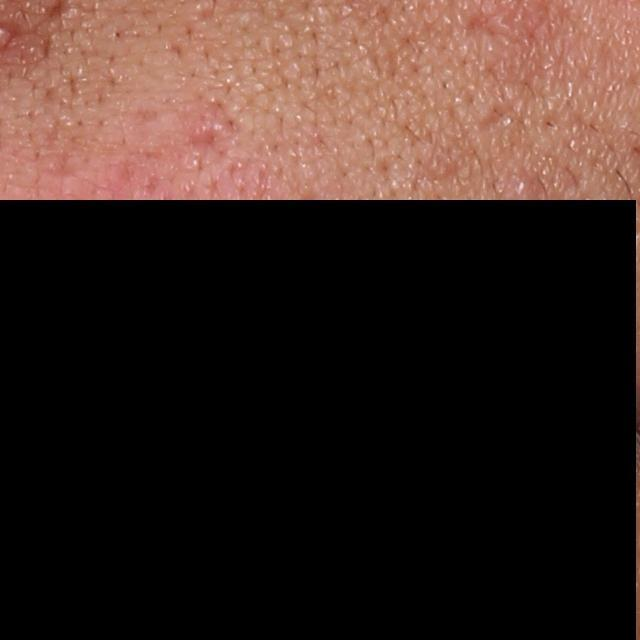atrophic_scar: (464, 10, 509, 65)
